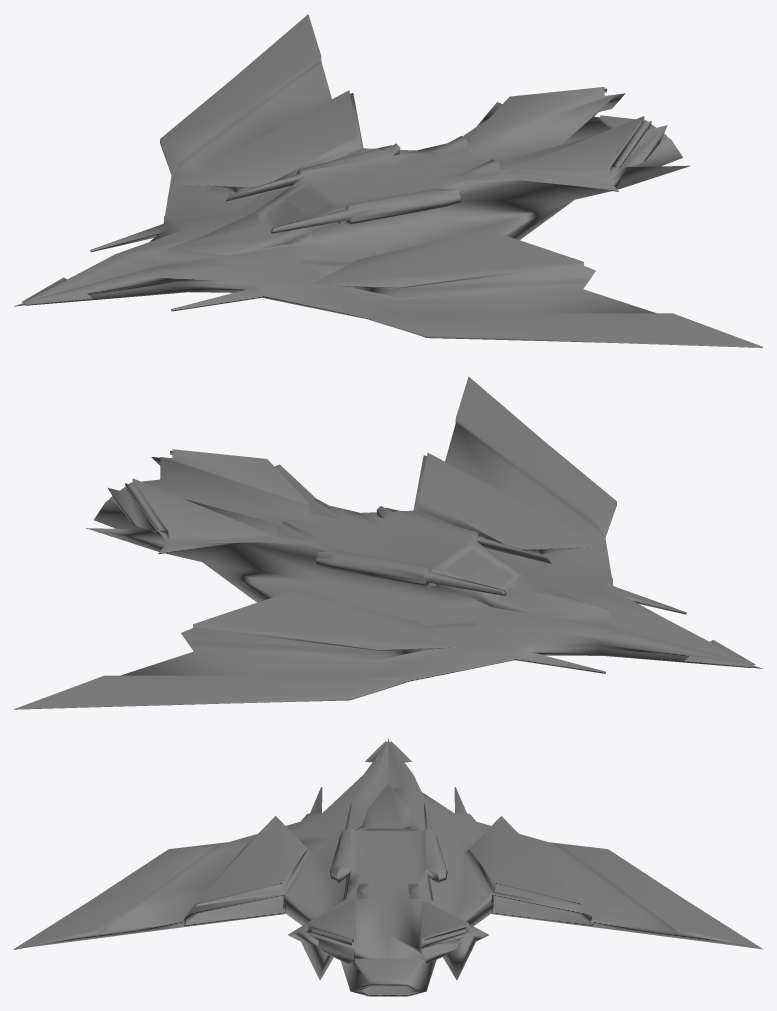
Rendered from jet_by_dommk.fbx.
3 renders of one model, top to bottom at view 1: azimuth 30°, elevation 25°; view 2: azimuth 150°, elevation 25°; view 3: azimuth 270°, elevation 25°, orthographic. The views are drawn at different scales.
Parts seen in each view (by area): view 1: jet; view 2: jet; view 3: jet.
Part boxes in pixels (x1,y1,x2,y2): jet: (14, 14, 762, 347); jet: (14, 376, 762, 709); jet: (14, 738, 762, 996).
Size of the model in its own units: 1966 by 201 by 2396.
